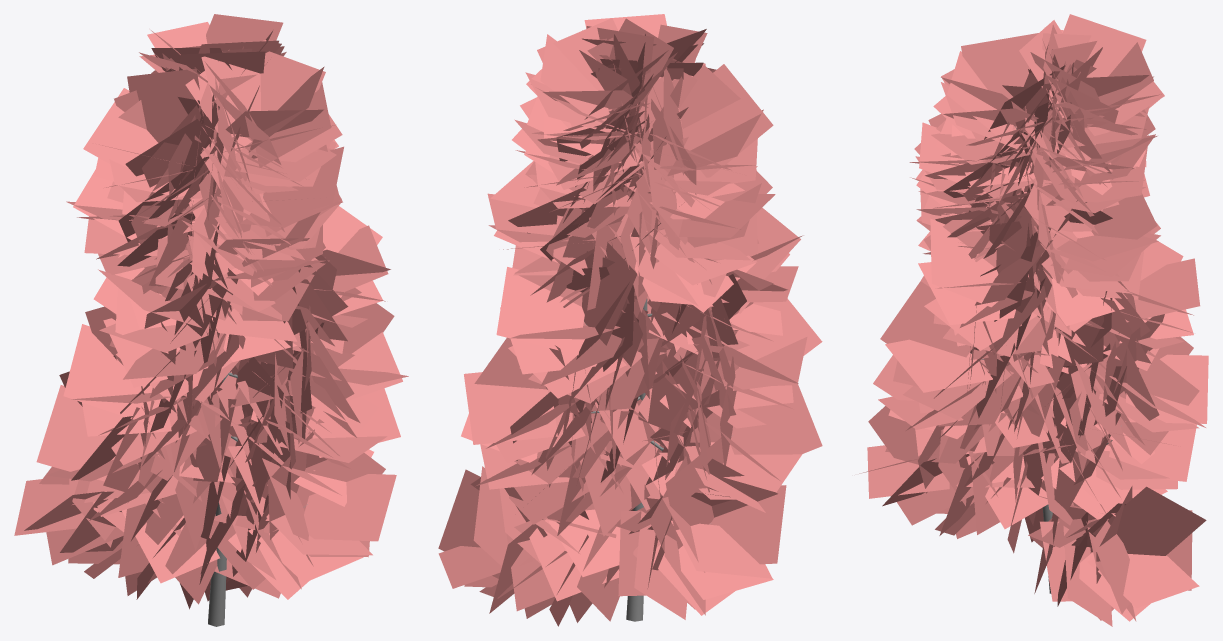
Rendered from SM_tree5.fbx.
The picture shows the model from 3 angles, left to right: view 1: azimuth 30°, elevation 25°; view 2: azimuth 150°, elevation 25°; view 3: azimuth 270°, elevation 25°; orthographic projection. The views are drawn at different scales.
Visible parts, largest first — view 1: SM_tree5; view 2: SM_tree5; view 3: SM_tree5.
Boxes of the visible parts, left/top/right/bottom form: SM_tree5: left=14, top=14, right=408, bottom=626; SM_tree5: left=438, top=14, right=822, bottom=626; SM_tree5: left=859, top=14, right=1208, bottom=626.
Bounding box in the file's own units: 330 × 558 × 321.
